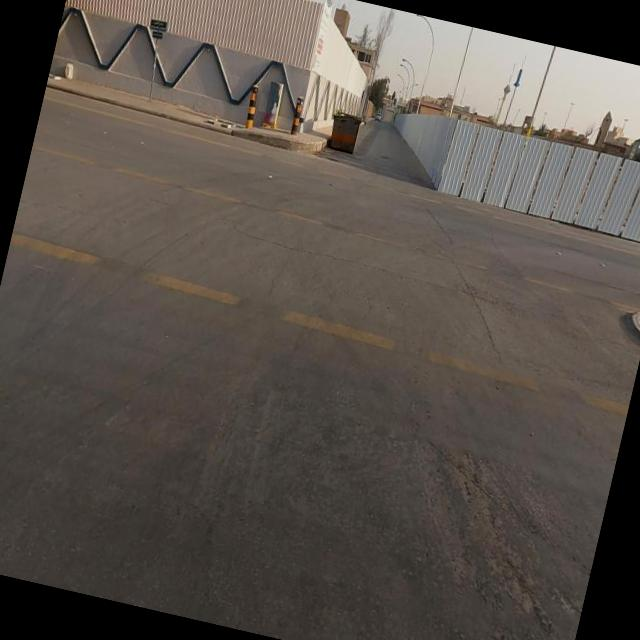debris: (296, 64, 392, 194), (270, 61, 325, 162), (229, 50, 277, 144)
